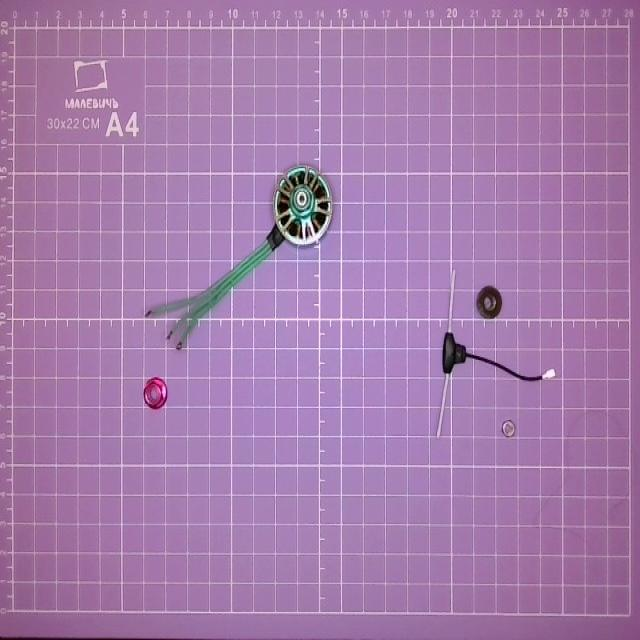antenna: (435, 269, 556, 440)
motor: (150, 163, 332, 356)
screw_M3: (501, 417, 518, 440)
screw_M5: (474, 280, 502, 327), (140, 379, 172, 411)
